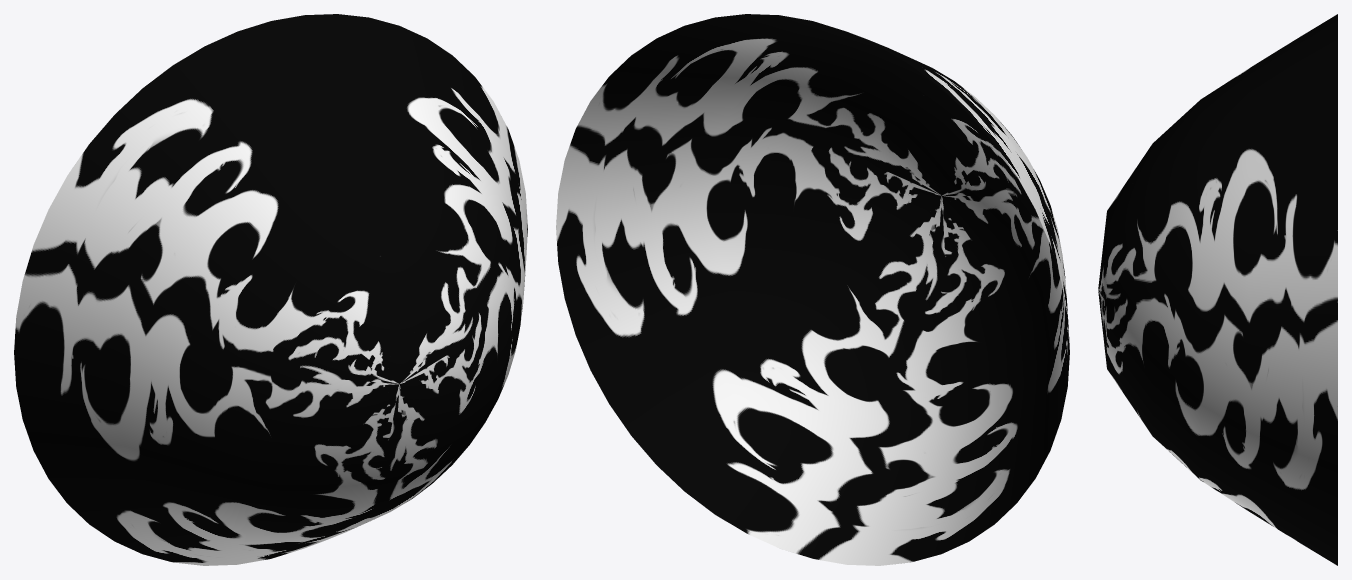
Rendered from FireAura.fbx.
3 views of the same model, side by side, from view 1: azimuth 30°, elevation 25°; view 2: azimuth 150°, elevation 25°; view 3: azimuth 270°, elevation 25° (orthographic). The views are drawn at different scales.
Visible parts, largest first — view 1: pasted__CircleFrontSphereHorizontal; view 2: pasted__CircleFrontSphereHorizontal; view 3: pasted__CircleFrontSphereHorizontal.
Part boxes in pixels (<box>): pasted__CircleFrontSphereHorizontal: <box>14,14,527,565</box>; pasted__CircleFrontSphereHorizontal: <box>556,14,1069,565</box>; pasted__CircleFrontSphereHorizontal: <box>1098,14,1337,565</box>.
Size of the model in its own units: 48.57 by 48.57 by 21.07.
Materials: 1 (1 with a texture image).
